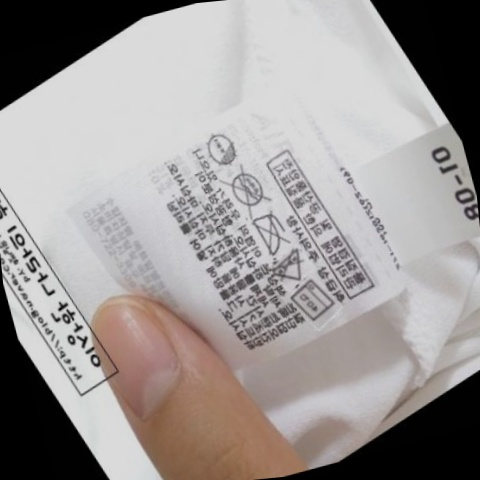40C: (281, 275, 340, 329)
DN_dry_clean: (217, 161, 275, 219)
DN_iron: (245, 207, 294, 261)
line_dry_in_shade: (195, 124, 243, 172)
non_chlorine_bleach: (264, 246, 312, 289)
